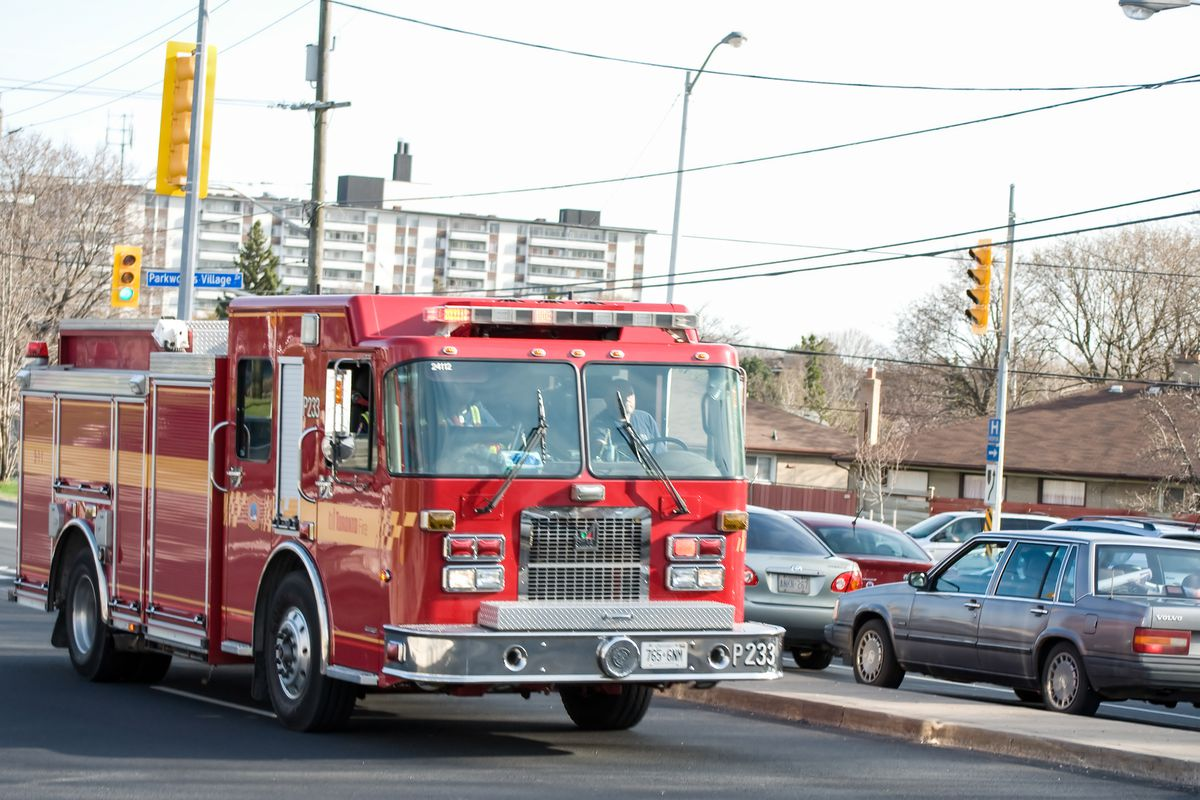passenger: (830, 520, 1200, 723)
special: (15, 292, 780, 734)
